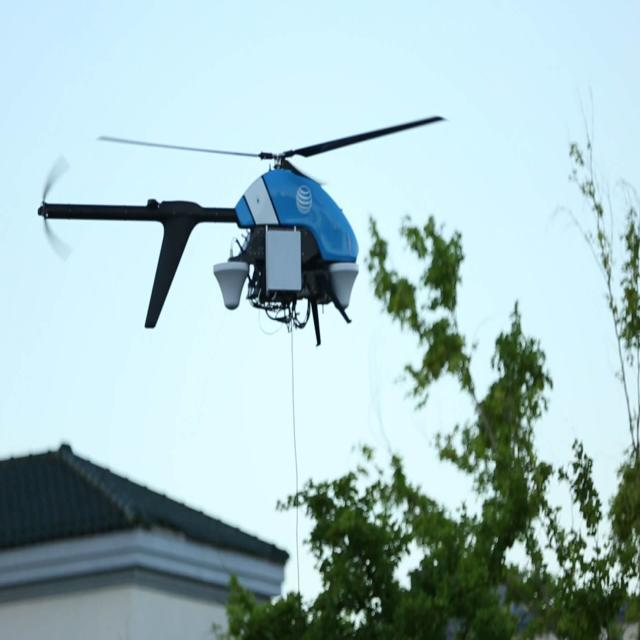drone: (36, 106, 447, 352)
